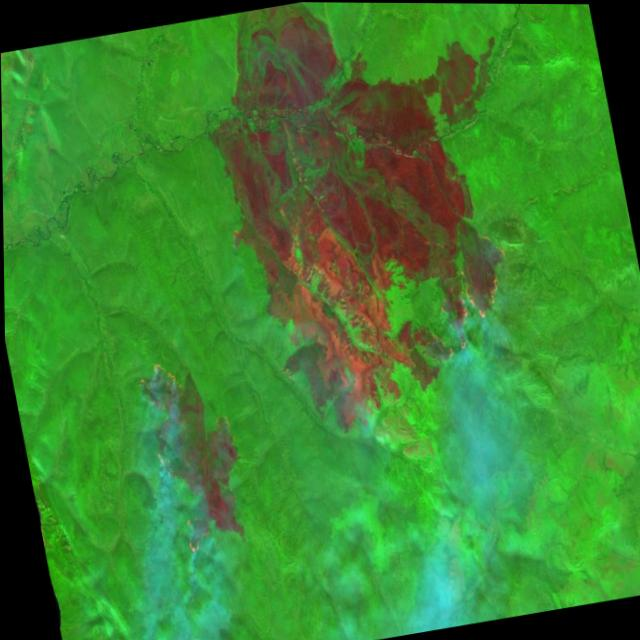fire: (422, 255, 514, 364), (131, 359, 198, 479), (177, 509, 217, 560)
